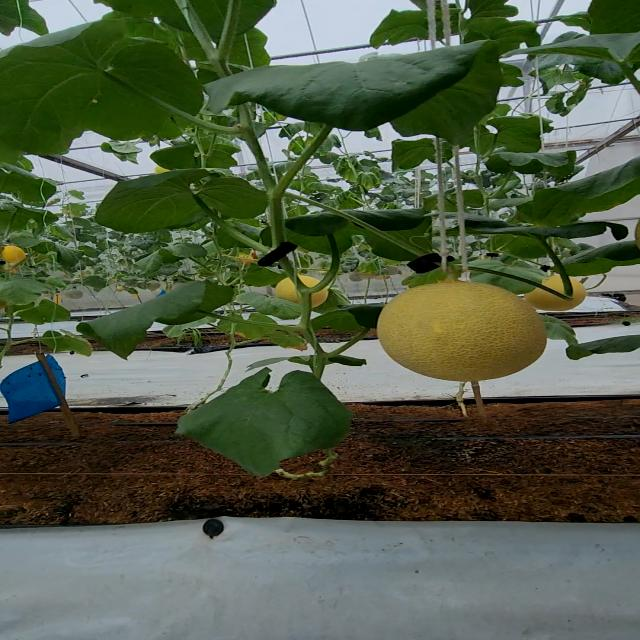Front-melon: (374, 284, 547, 380)
Rear-melon: (528, 276, 586, 312), (2, 245, 26, 261)
